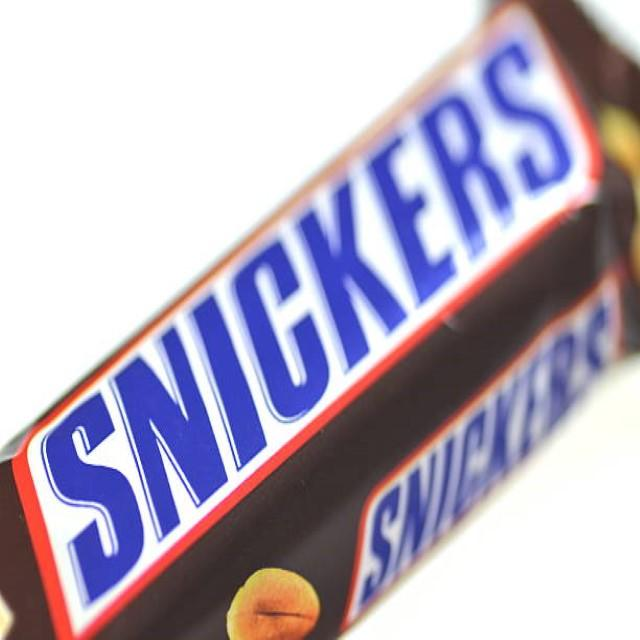snickers_chocolate: (3, 7, 640, 640)
